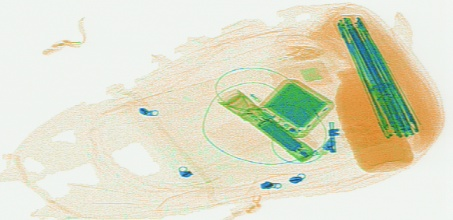drinkbottle: (332, 63, 412, 175)
smallelectronicequipment: (254, 77, 336, 140)
umbrella: (331, 12, 420, 143)
